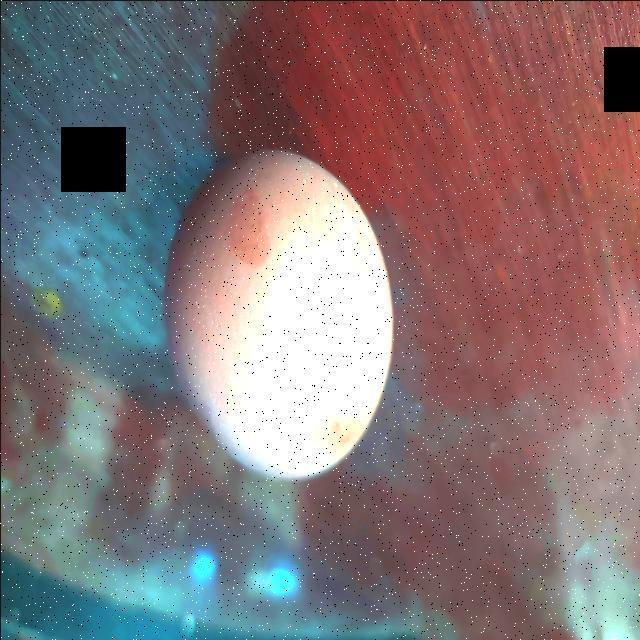egg: (156, 139, 404, 489)
